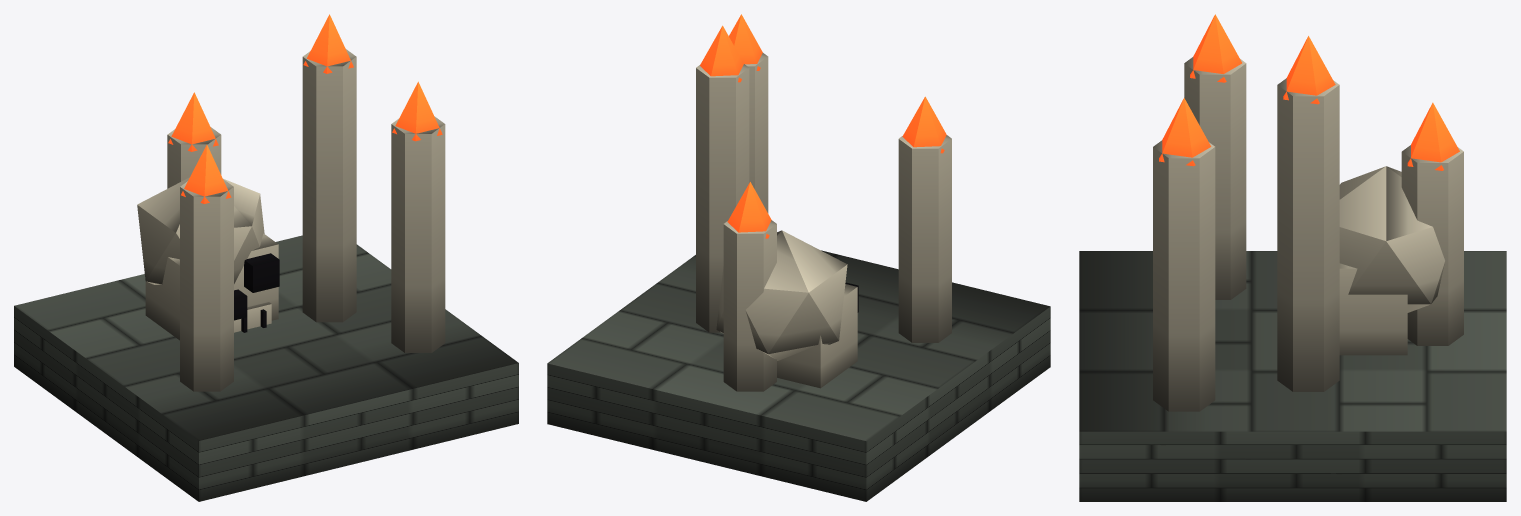
File: candle_shrine.fbx
The picture shows the model from 3 angles, left to right: view 1: azimuth 30°, elevation 25°; view 2: azimuth 150°, elevation 25°; view 3: azimuth 270°, elevation 25°; orthographic projection. The views are drawn at different scales.
Parts seen in each view (by area): view 1: candle_shrine; view 2: candle_shrine; view 3: candle_shrine.
Part boxes in pixels (x1,y1,x2,y2): candle_shrine: [14, 14, 518, 501]; candle_shrine: [547, 14, 1050, 501]; candle_shrine: [1079, 14, 1506, 501].
Size of the model in its own units: 55 by 59 by 55.
1 material, 1 textured.
